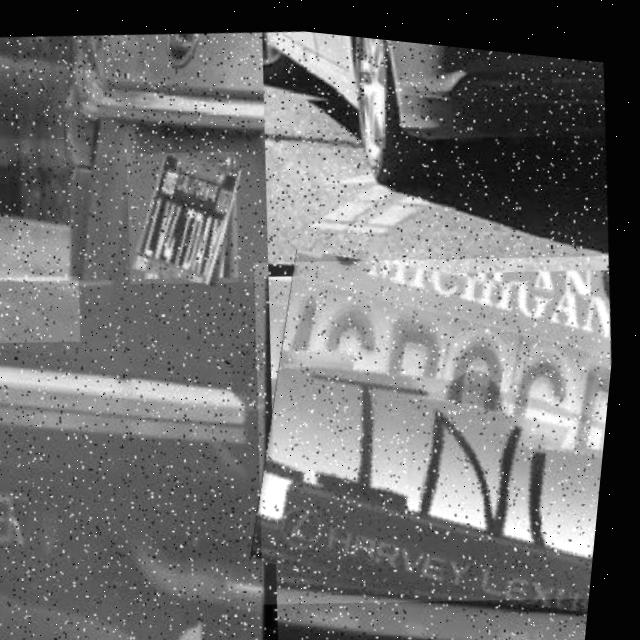LicensePlate: (233, 214, 626, 623), (119, 136, 253, 289), (0, 265, 91, 352)
